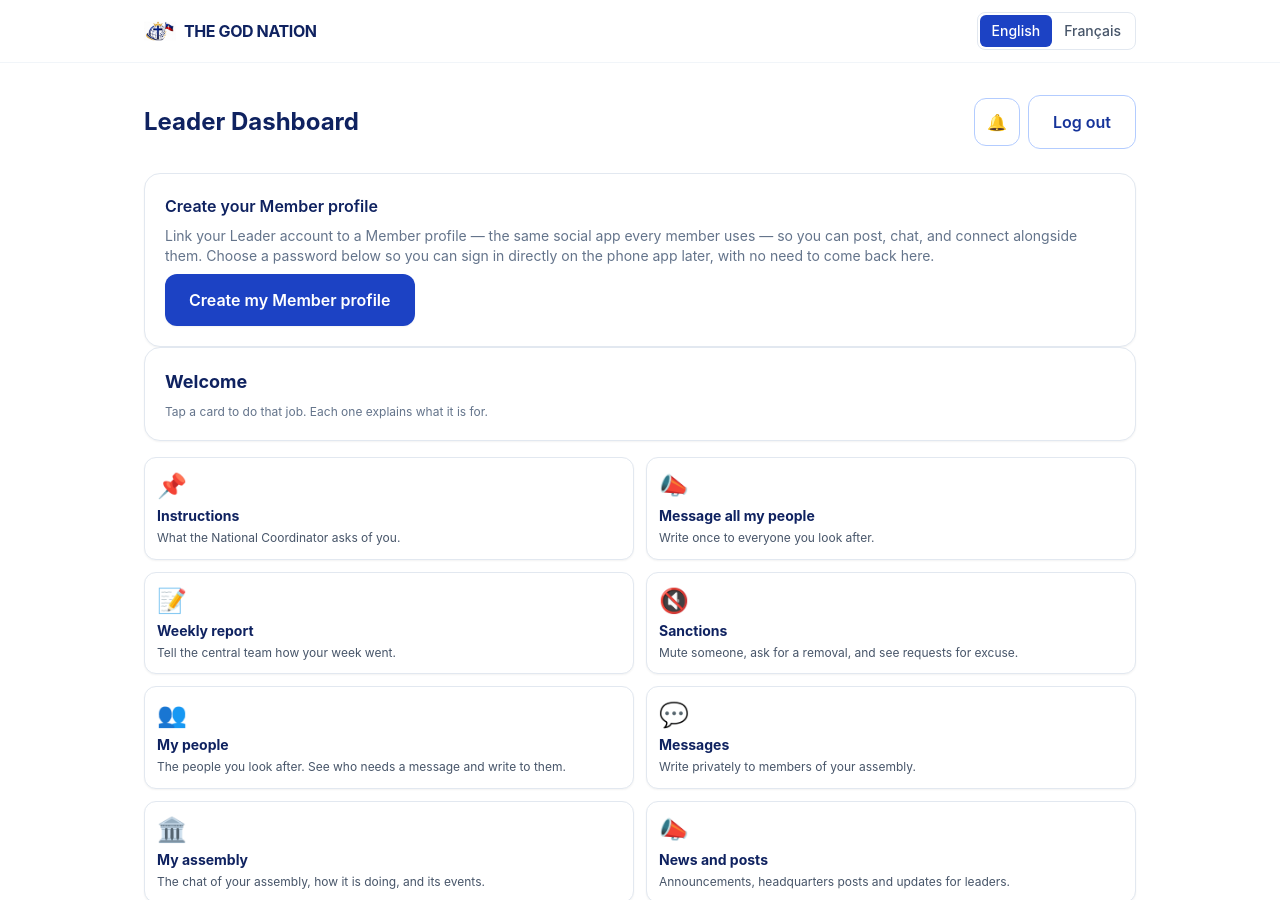
Test: LeaderDashboardPage — Leader <-> Member identity bridge › requires a password of at least 8 characters before submitting
Expected: the heading "Create your Member profile" is shown, left=165, top=196, right=378, bottom=216
Click the button "Create my Member profile" at (290, 300), box left=165, top=274, right=414, bottom=326
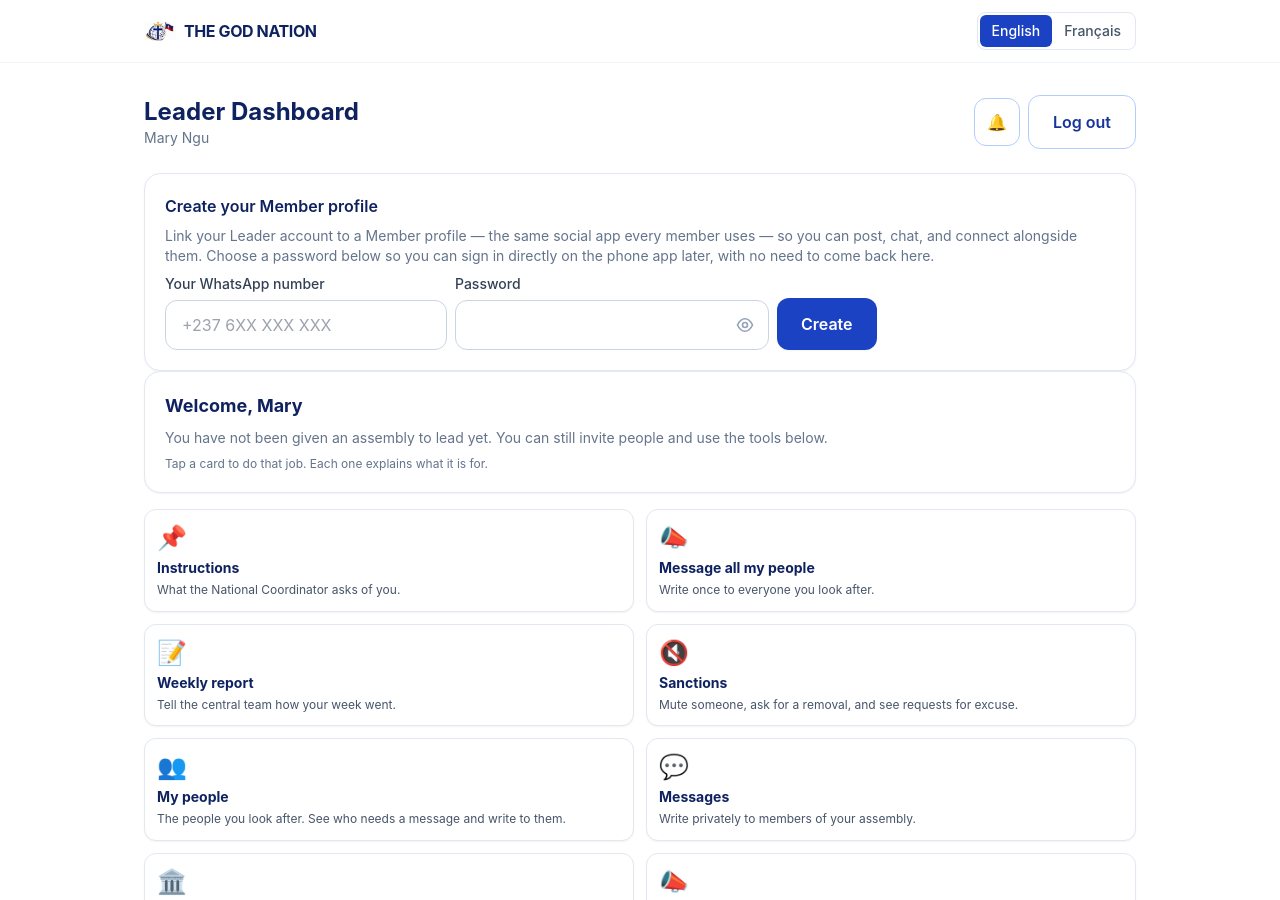
Type "+237670000003" into the field with placeholder "+237 6XX XXX XXX" at (306, 325), box left=165, top=300, right=447, bottom=350
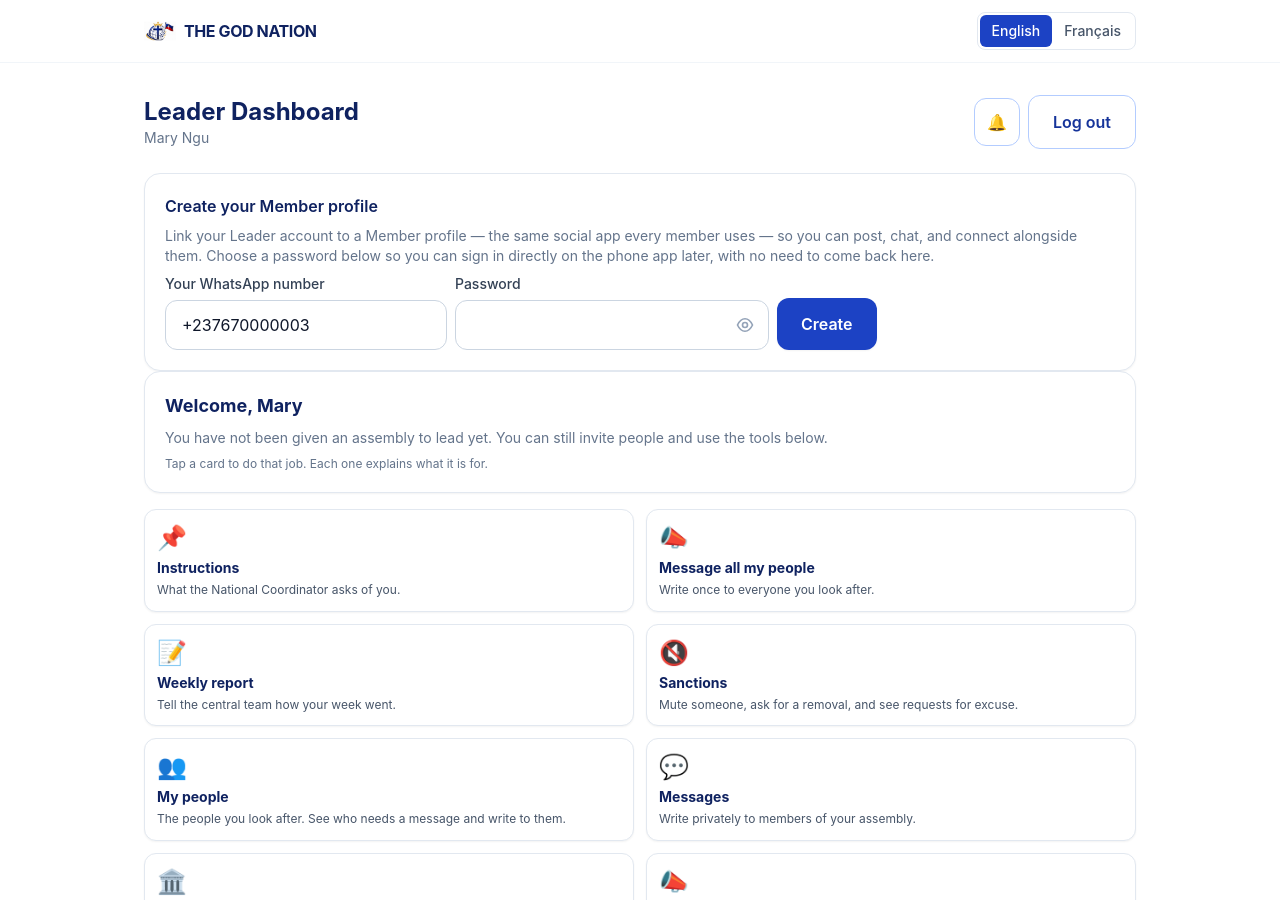
Type "short" into the password field labelled "Password" at (612, 325), box left=455, top=300, right=769, bottom=350
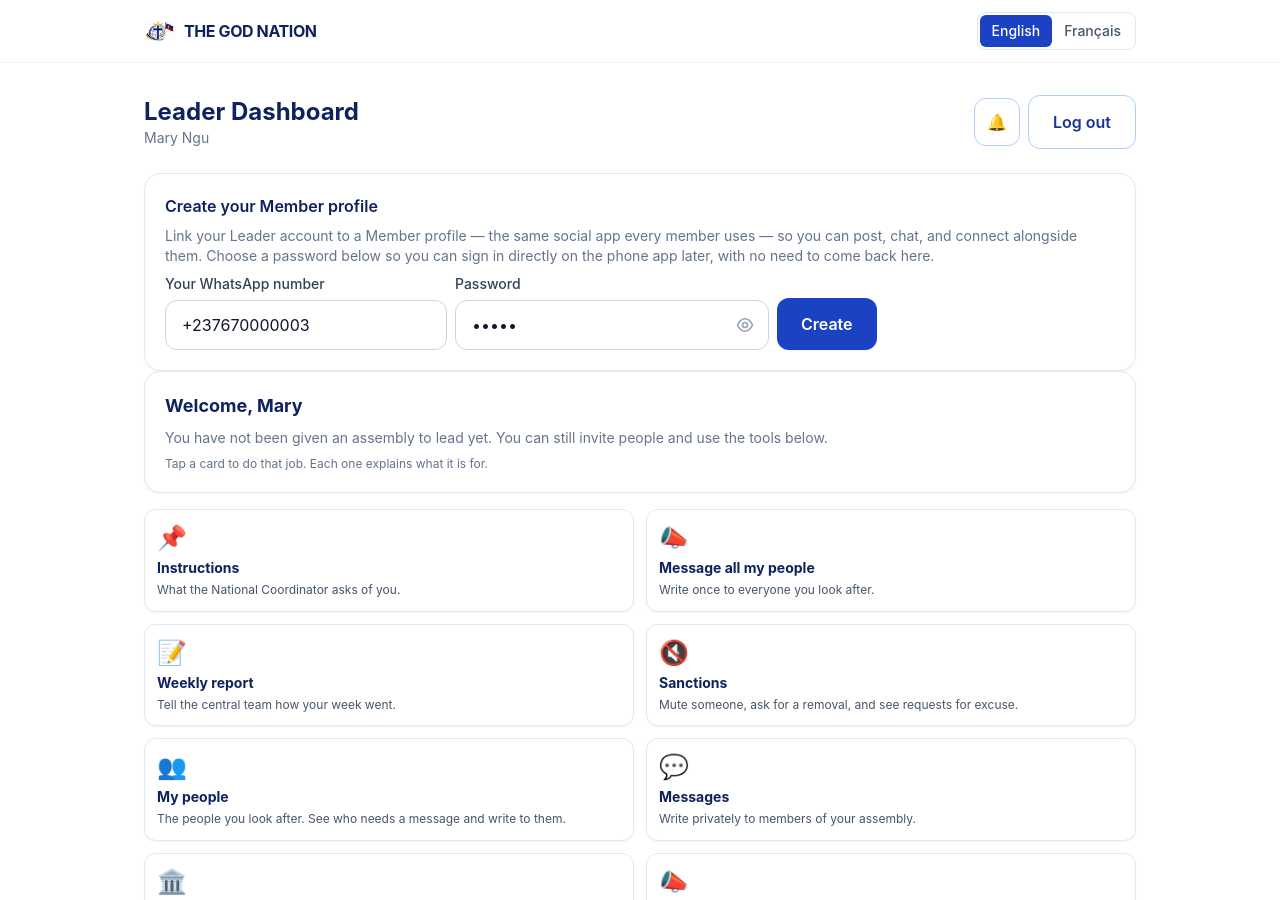
Click the button "Create" at (827, 324), box left=777, top=298, right=876, bottom=350
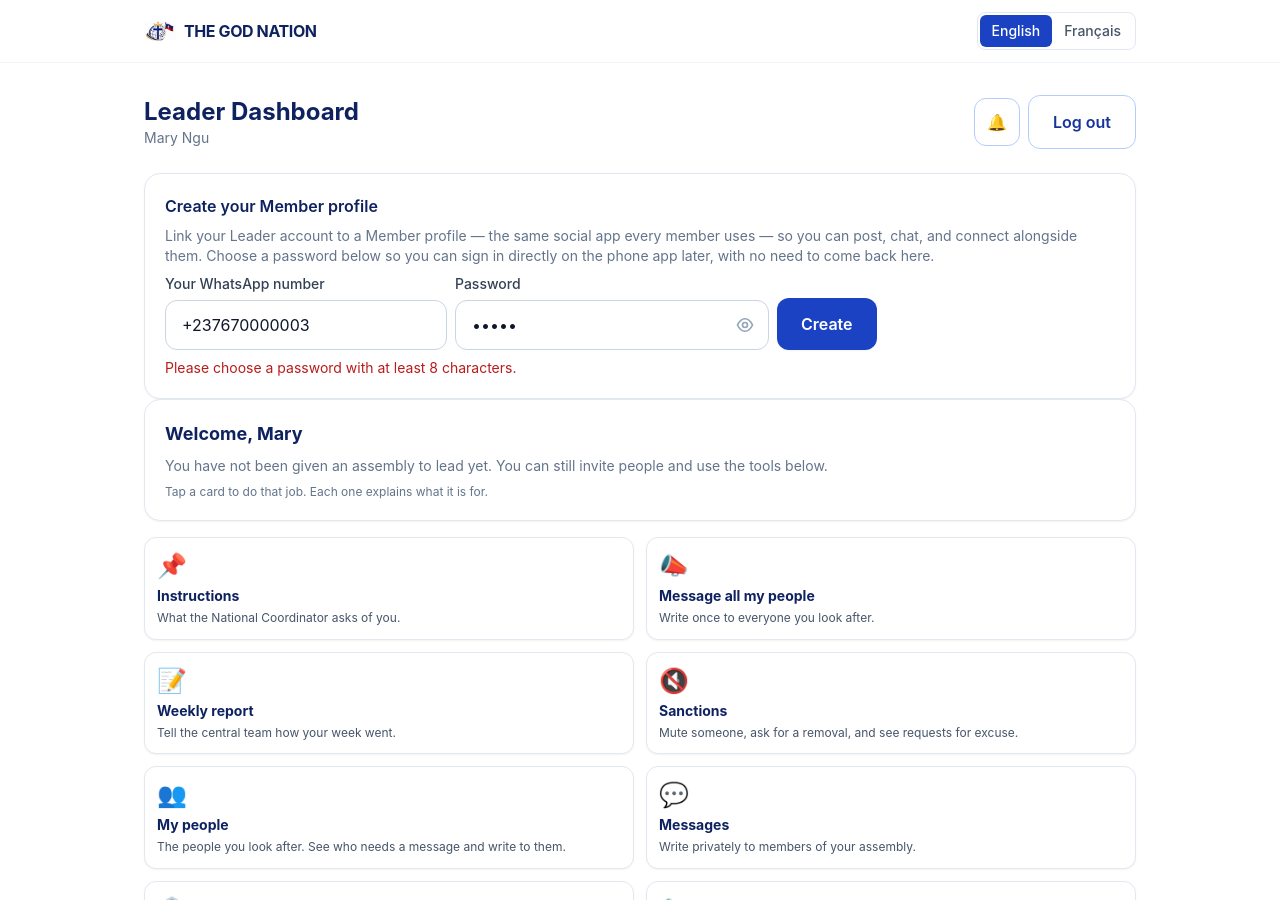
Now the text "Please choose a password with at least 8 characters." is shown, box left=165, top=359, right=516, bottom=376
